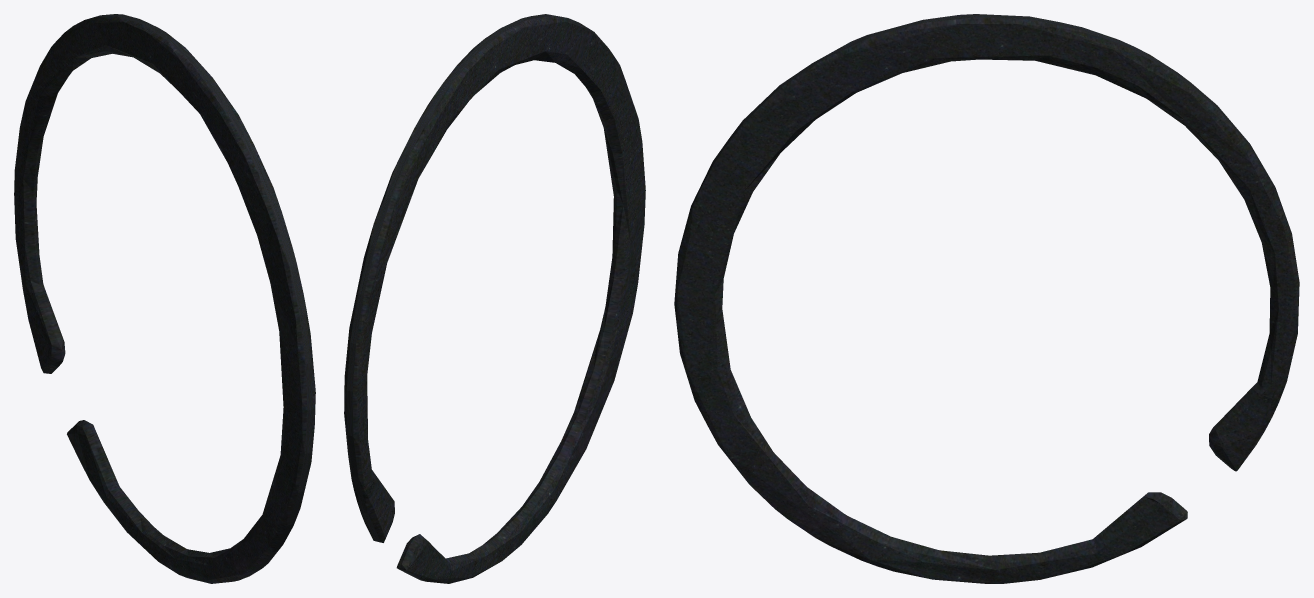
Rendered from Bolt_Ring1.dae.
3 views of the same model, side by side, from view 1: azimuth 30°, elevation 25°; view 2: azimuth 150°, elevation 25°; view 3: azimuth 270°, elevation 25° (orthographic). The views are drawn at different scales.
Visible parts, largest first — view 1: Bolt_Ring1; view 2: Bolt_Ring1; view 3: Bolt_Ring1.
Part boxes in pixels (x1,y1,x2,y2): Bolt_Ring1: (14,14,315,583); Bolt_Ring1: (344,14,645,583); Bolt_Ring1: (674,14,1299,583).
Bounding box in the file's own units: 0.000396 × 0.0127 × 0.0127.
Materials: 1 (1 with a texture image).
